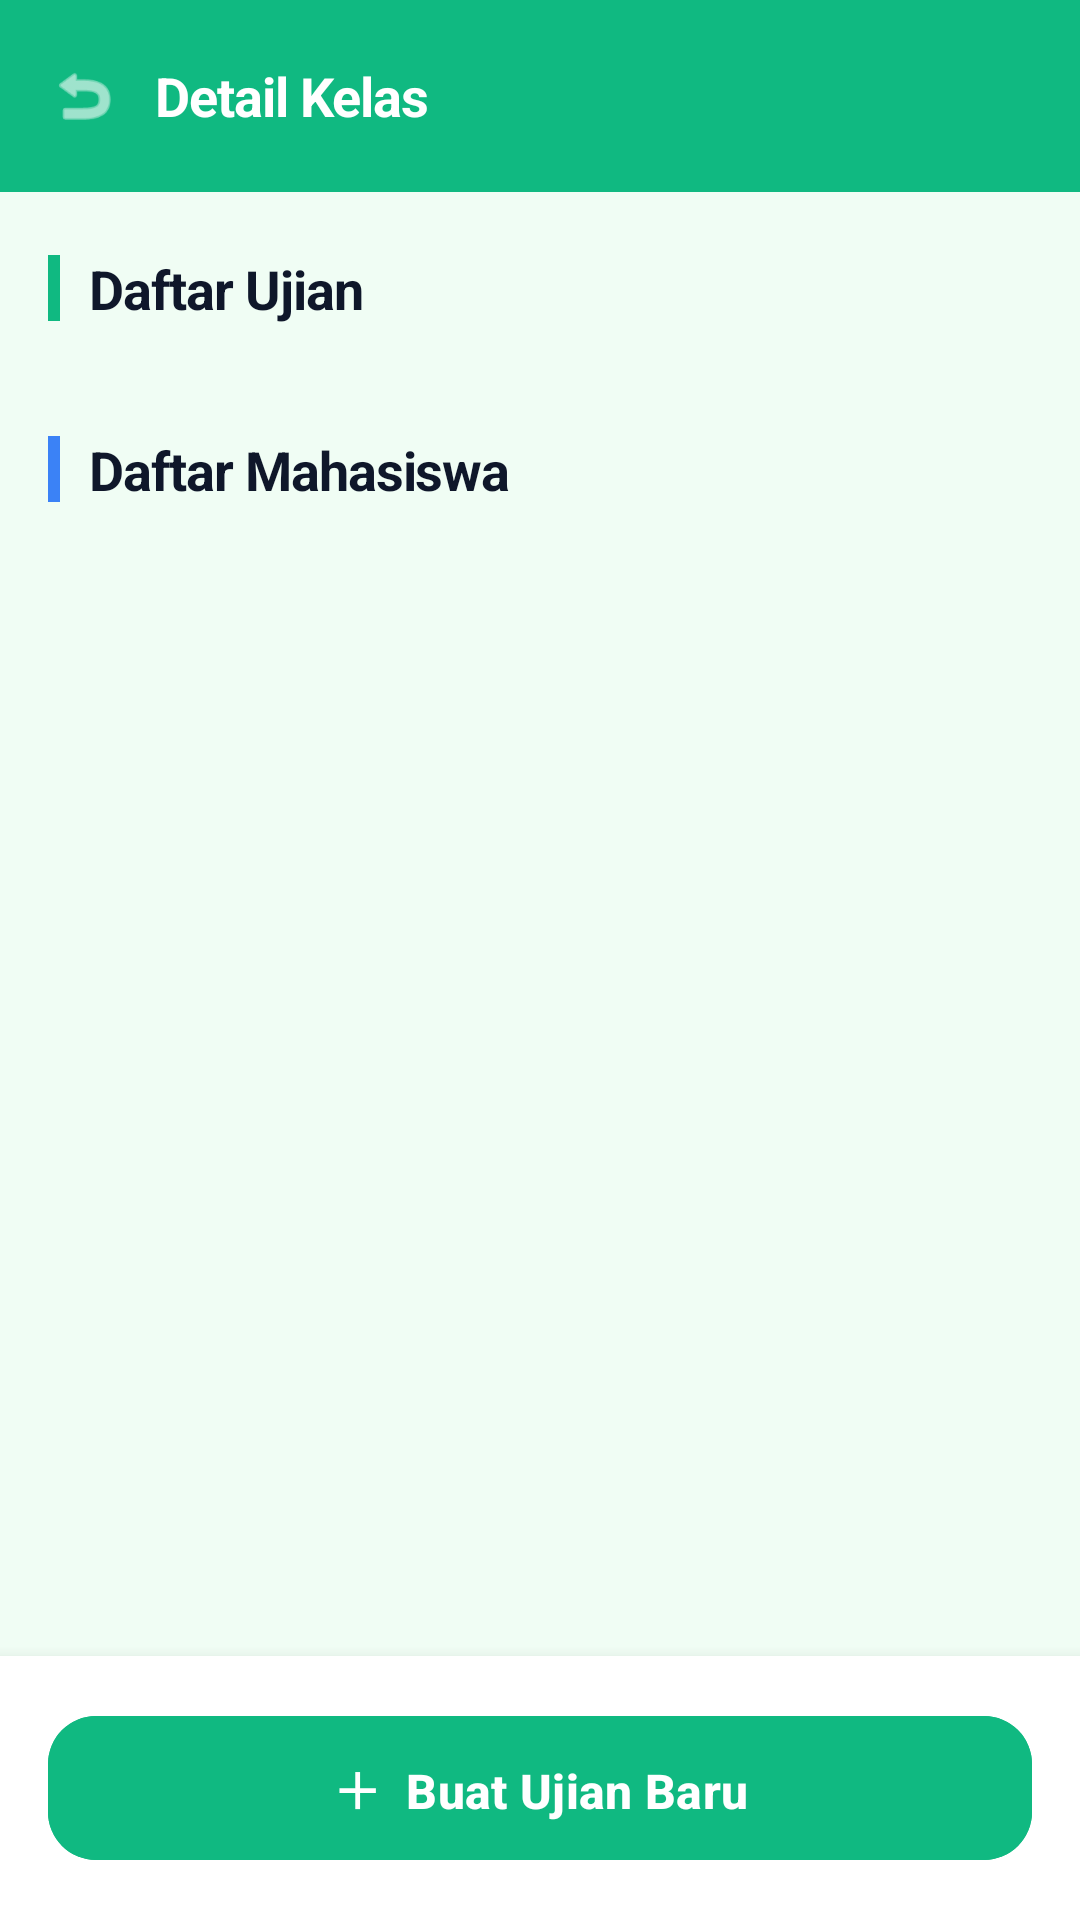

Screen size 1080*1920. Icon name, then its box in pixels as (x1, y1, x2, y2):
revert: (59, 73, 111, 120)
